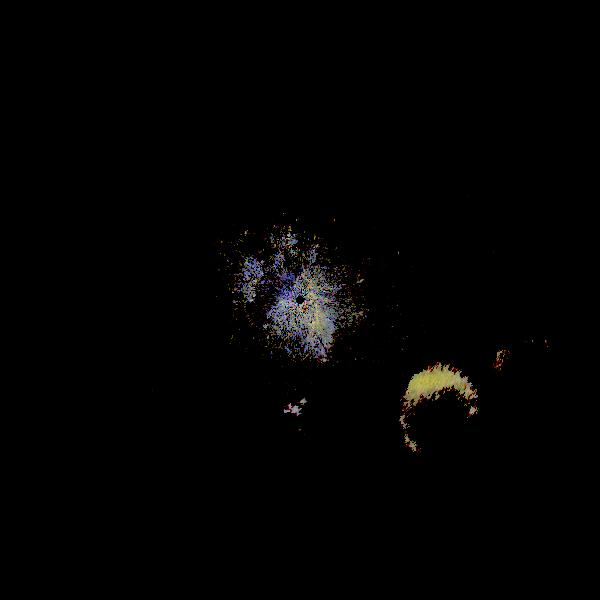roost: (379, 338, 550, 509), (469, 319, 600, 463)
